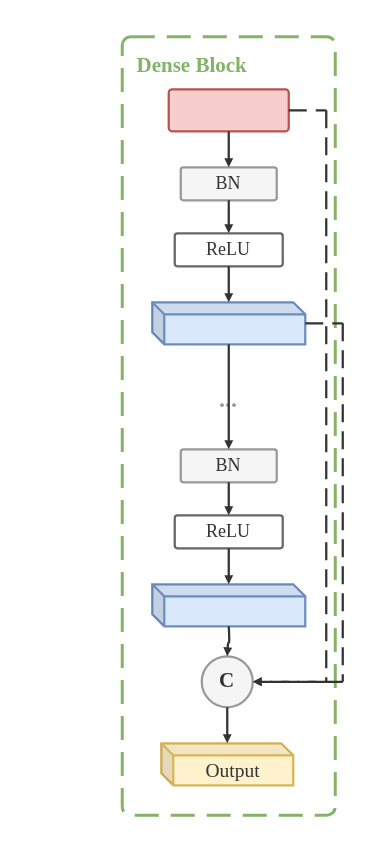
The diagram is 375 pixels wide and 848 high, and some of its shapes have lost their labels. Here are the shapes that lost their labels. From the top down, the centre of each, then its label:
At point (228, 109): "Input".
At point (228, 322): "Conv 1x1".
At point (228, 604): "Conv 3x3".
